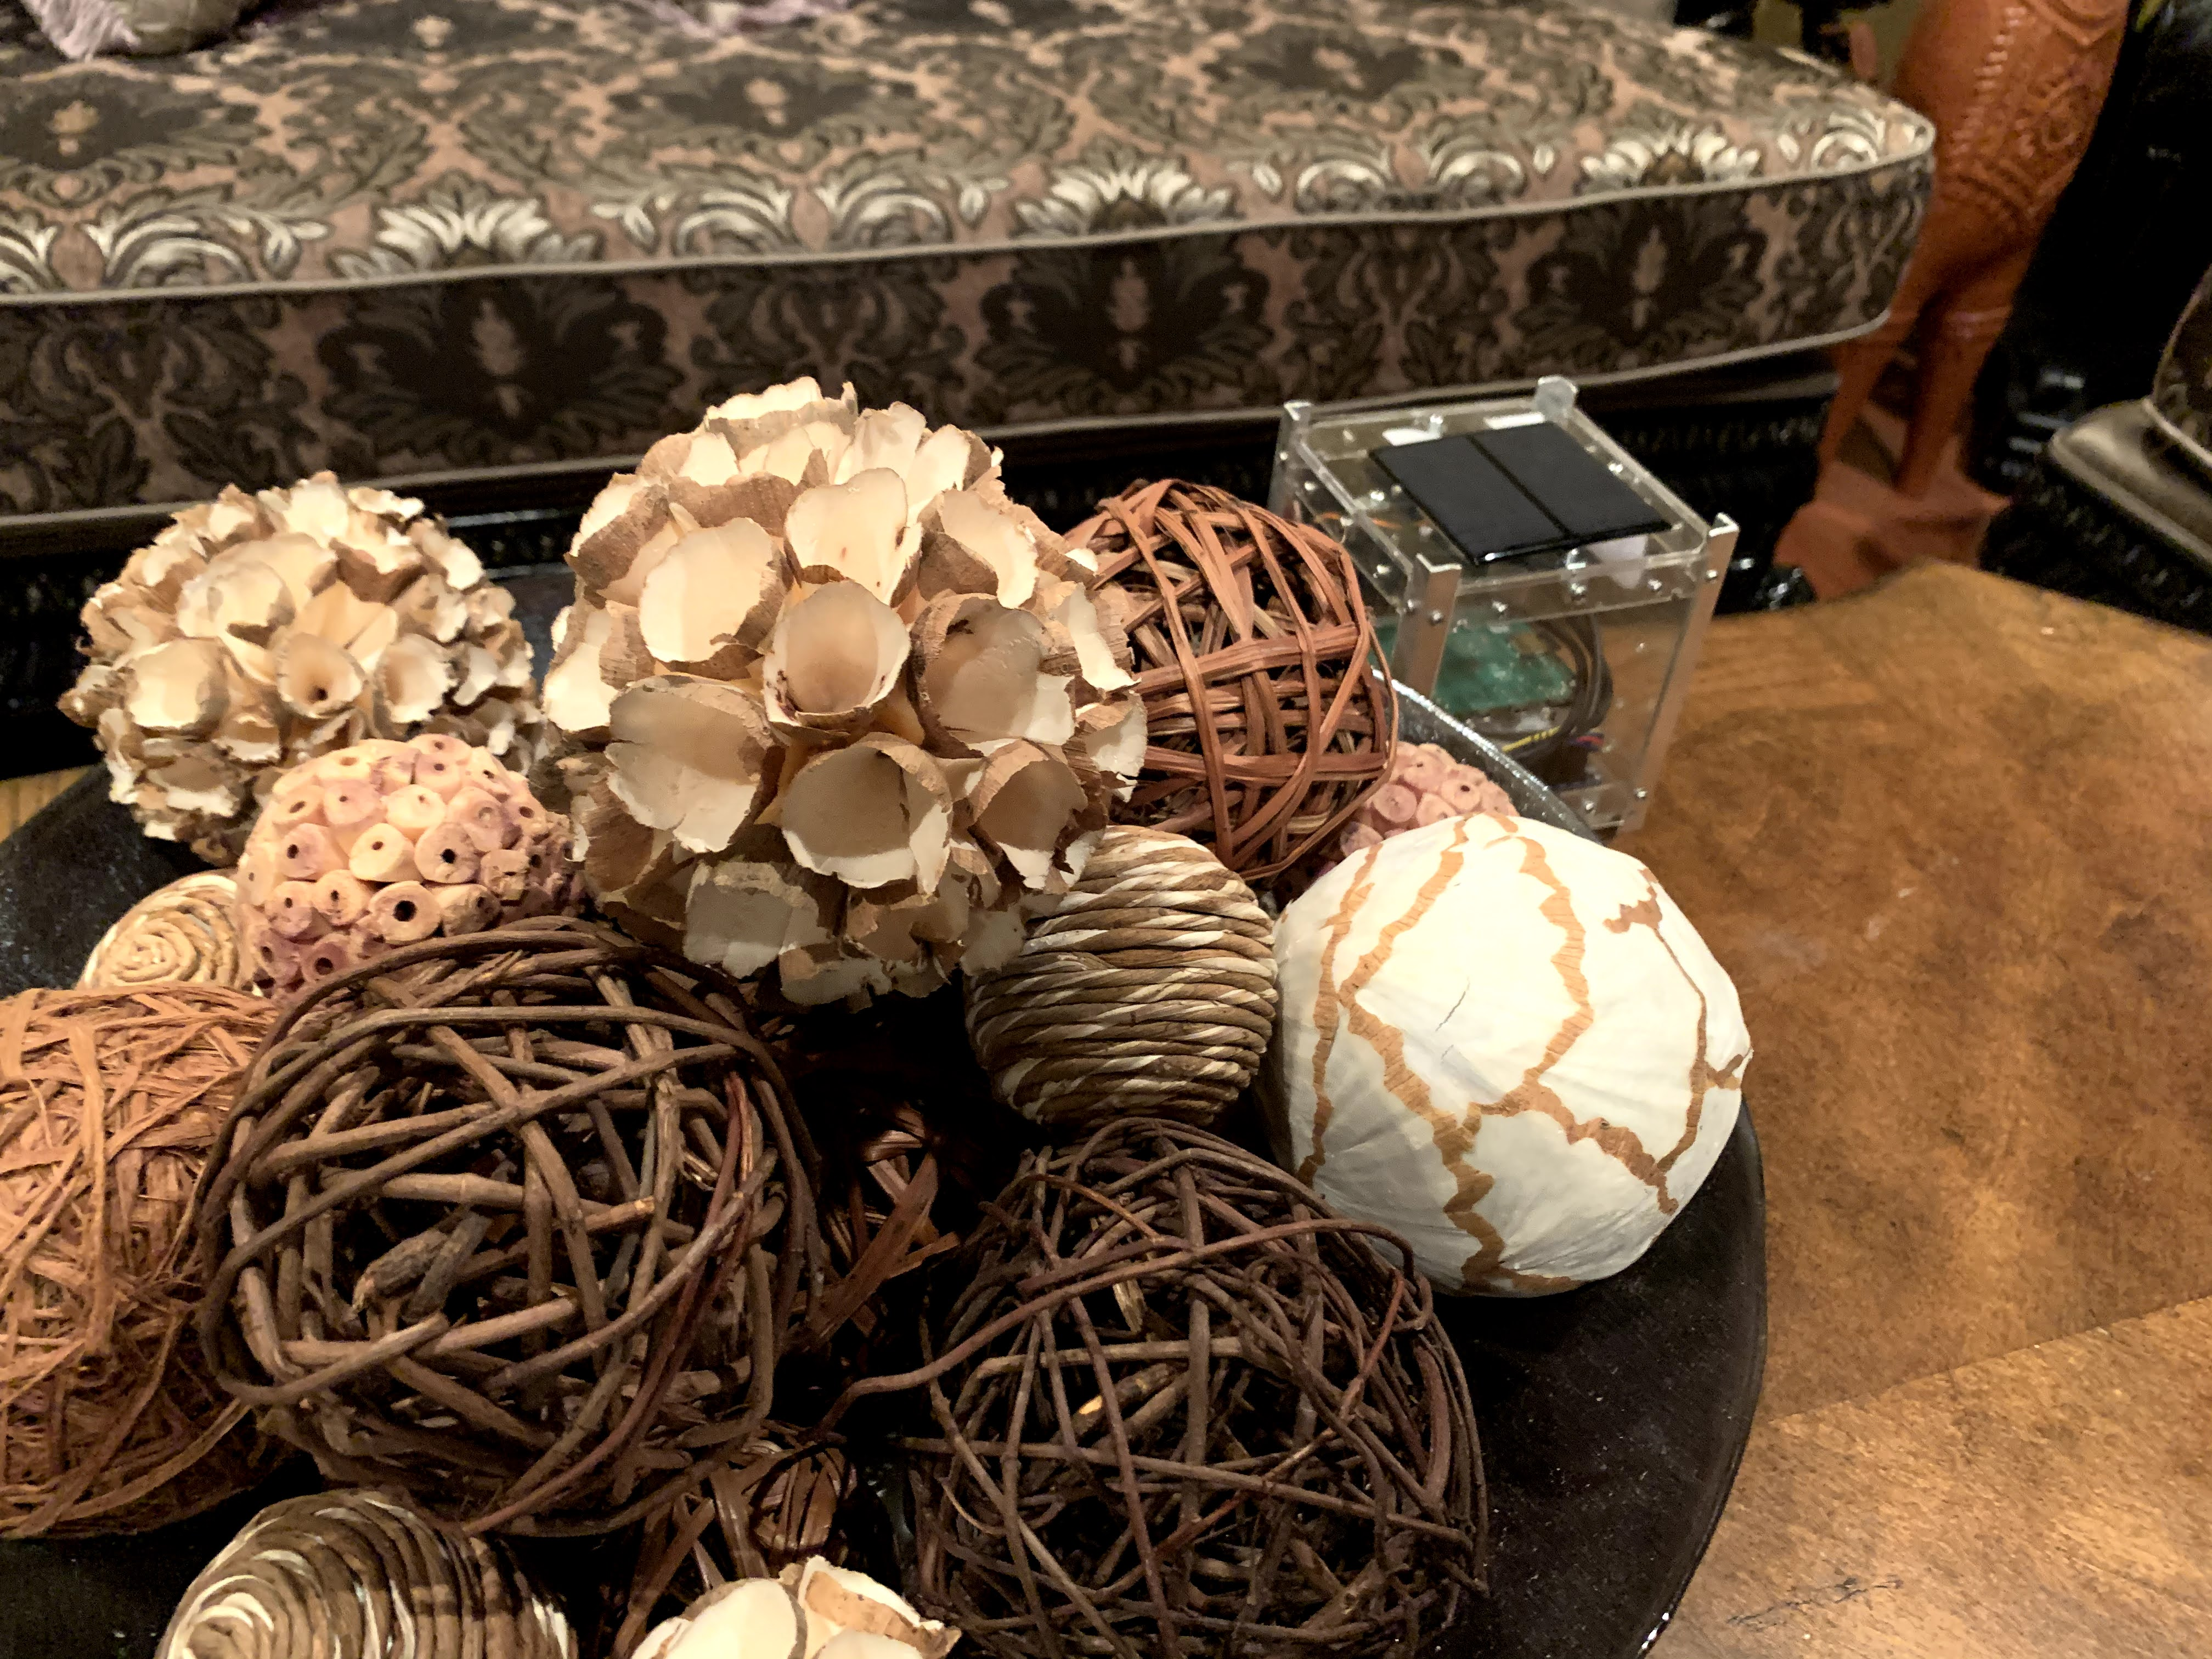Space-debris-cubesat: (1280, 361, 1738, 835)
